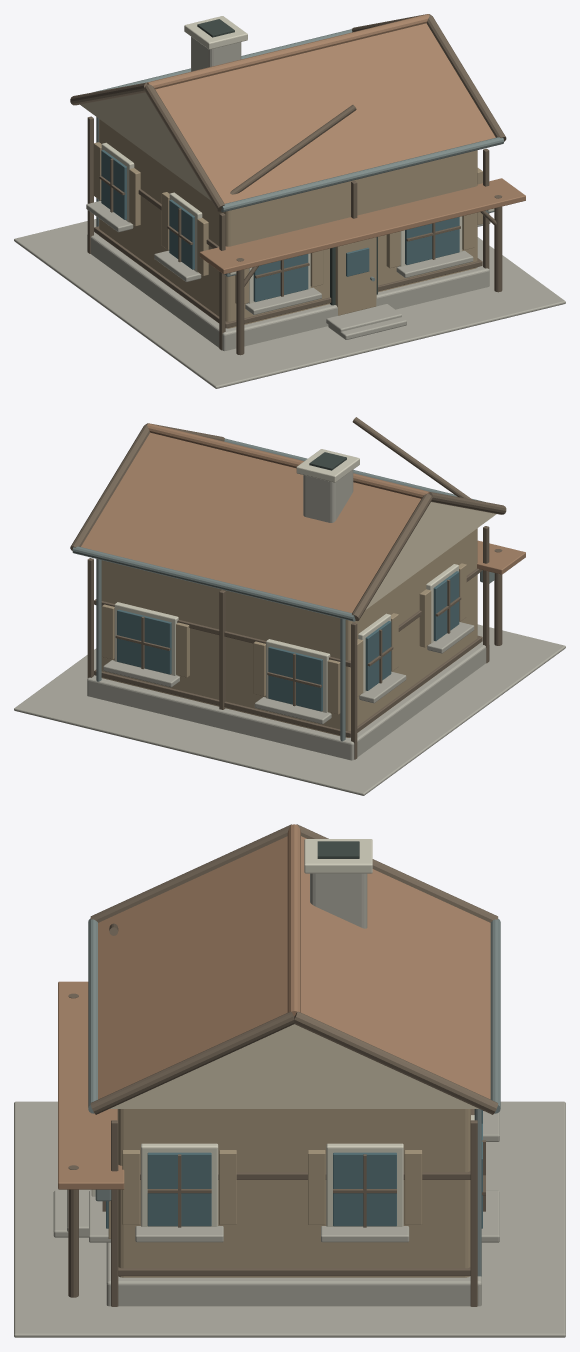
Rendered from district_art_2.glb.
3 views of the same model, one above another, from view 1: azimuth 30°, elevation 25°; view 2: azimuth 150°, elevation 25°; view 3: azimuth 270°, elevation 25° (orthographic). The views are drawn at different scales.
Parts seen in each view (by area): view 1: roof, stone, wood, timber, glass, plaster, metal, trim, dark; view 2: roof, stone, wood, timber, glass, metal, plaster, trim; view 3: roof, stone, wood, timber, plaster, glass, trim, metal, dark.
Part boxes in pixels (x1,y1,x2,y2): roof: (147, 14, 525, 274); stone: (14, 37, 565, 388); wood: (93, 119, 482, 328); timber: (70, 14, 506, 355); glass: (101, 150, 459, 301); plaster: (80, 92, 210, 200); metal: (92, 29, 504, 281); trim: (101, 16, 494, 303); dark: (197, 19, 377, 305); roof: (81, 423, 525, 612); stone: (14, 470, 565, 795); wood: (101, 528, 477, 737); timber: (70, 417, 506, 759); glass: (117, 571, 459, 711); metal: (72, 438, 494, 741); plaster: (365, 502, 496, 609); trim: (114, 449, 458, 712); roof: (58, 824, 490, 1189); stone: (14, 873, 565, 1337); wood: (108, 1109, 470, 1277); timber: (68, 824, 498, 1306); plaster: (109, 1024, 478, 1108); glass: (106, 1110, 482, 1228); trim: (91, 839, 474, 1226); metal: (88, 918, 500, 1276); dark: (317, 841, 359, 858).
Size of the model in its own units: 12.5 by 8.39 by 12.5.
